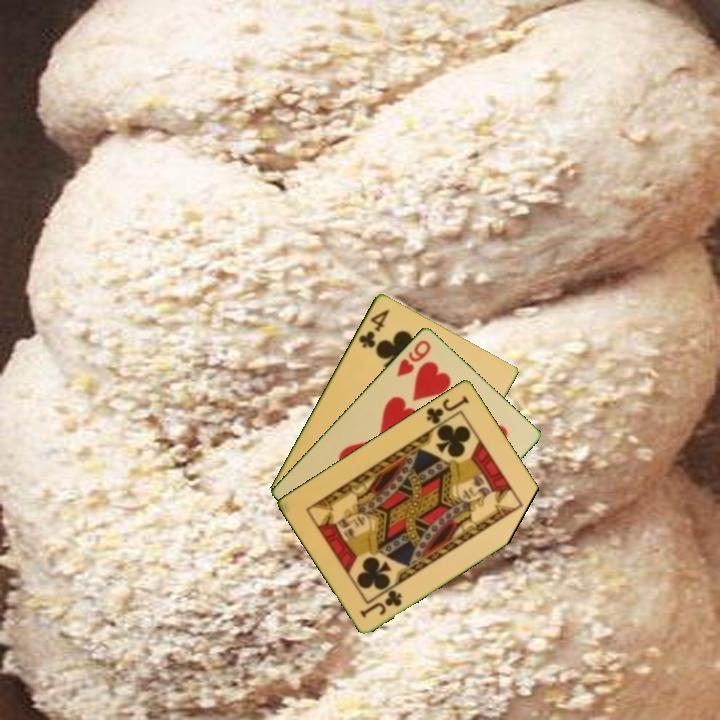4c: (355, 305, 392, 351)
9h: (393, 336, 434, 379)
Jc: (422, 392, 472, 427), (357, 586, 405, 620)
